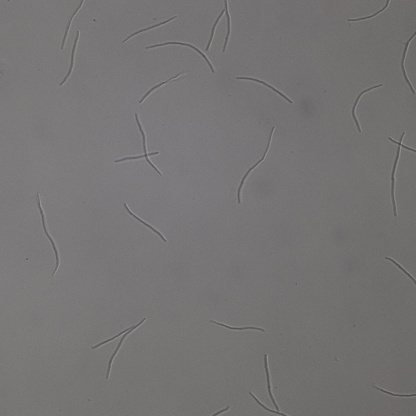Sensitive: (91, 317, 146, 381), (114, 112, 163, 176), (236, 126, 275, 204), (388, 131, 416, 217), (249, 354, 287, 416), (146, 41, 216, 72), (36, 193, 61, 276), (124, 203, 167, 241), (237, 75, 294, 103), (351, 83, 382, 133), (123, 14, 178, 41), (204, 1, 232, 52), (140, 70, 186, 101), (60, 31, 80, 85), (400, 29, 416, 95), (61, 1, 83, 46), (348, 1, 390, 22), (386, 257, 416, 286), (211, 319, 267, 334), (372, 386, 416, 403)
